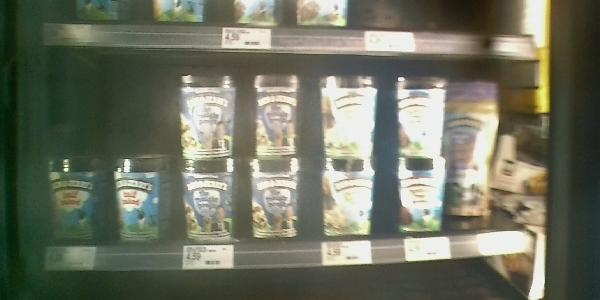icecream1: (450, 79, 507, 230), (176, 65, 237, 162), (314, 71, 382, 158), (176, 163, 241, 250), (112, 152, 169, 245), (313, 158, 379, 238), (44, 152, 102, 243), (246, 68, 304, 157), (245, 157, 305, 243), (393, 70, 447, 159), (392, 159, 451, 232)
